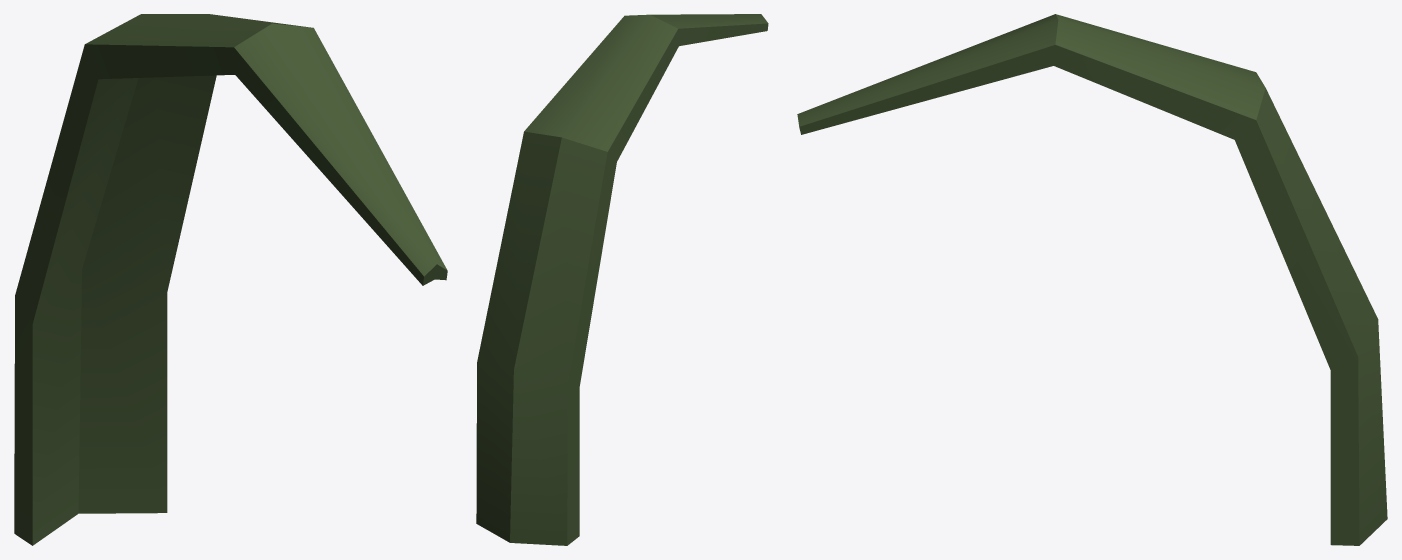
File: SM_Grass_Blade_01.fbx
3 views of the same model, side by side, from view 1: azimuth 30°, elevation 25°; view 2: azimuth 150°, elevation 25°; view 3: azimuth 270°, elevation 25° (orthographic). The views are drawn at different scales.
Visible parts, largest first — view 1: SM_Grass_Blade_01; view 2: SM_Grass_Blade_01; view 3: SM_Grass_Blade_01.
Part boxes in pixels (x1,y1,x2,y2): SM_Grass_Blade_01: [14, 14, 447, 545]; SM_Grass_Blade_01: [476, 14, 768, 545]; SM_Grass_Blade_01: [797, 14, 1387, 545].
Size of the model in its own units: 13.48 by 60.44 by 64.59.
